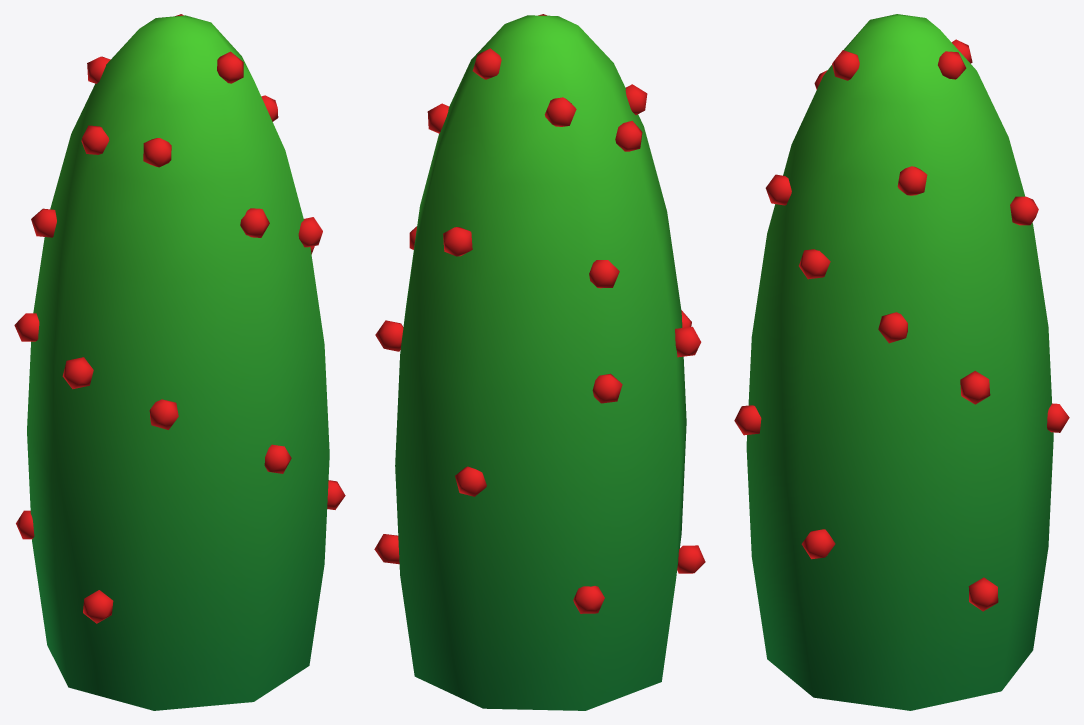
File: Bush_2_A_2.glb
3 renders of one model, left to right at view 1: azimuth 30°, elevation 25°; view 2: azimuth 150°, elevation 25°; view 3: azimuth 270°, elevation 25°, orthographic.
Visible parts, largest first — view 1: Bush_2_A_2; view 2: Bush_2_A_2; view 3: Bush_2_A_2.
Part boxes in pixels (bbox=[...]): Bush_2_A_2: bbox=[14, 14, 345, 710]; Bush_2_A_2: bbox=[374, 14, 705, 710]; Bush_2_A_2: bbox=[734, 14, 1069, 710].
Size of the model in its own units: 0.7058 by 1.59 by 0.7575.
Materials: 1 (1 with a texture image).
